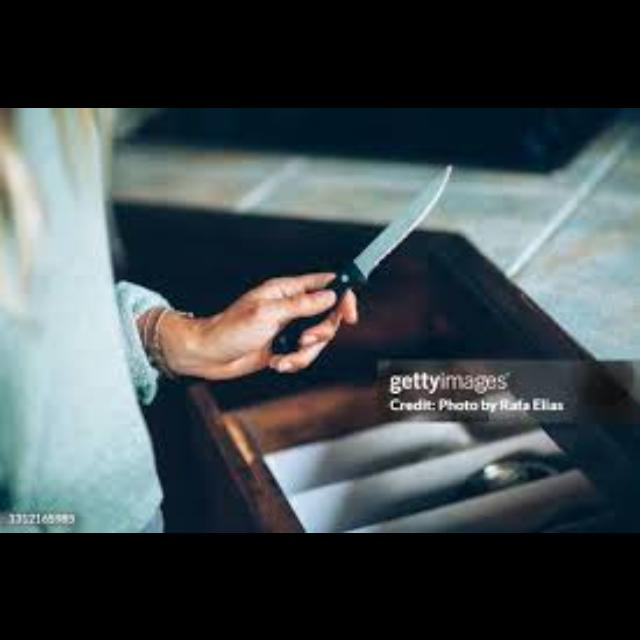Knife: (270, 160, 452, 354)
Person: (0, 108, 314, 532)
Weapon Holding: (218, 270, 352, 380)
